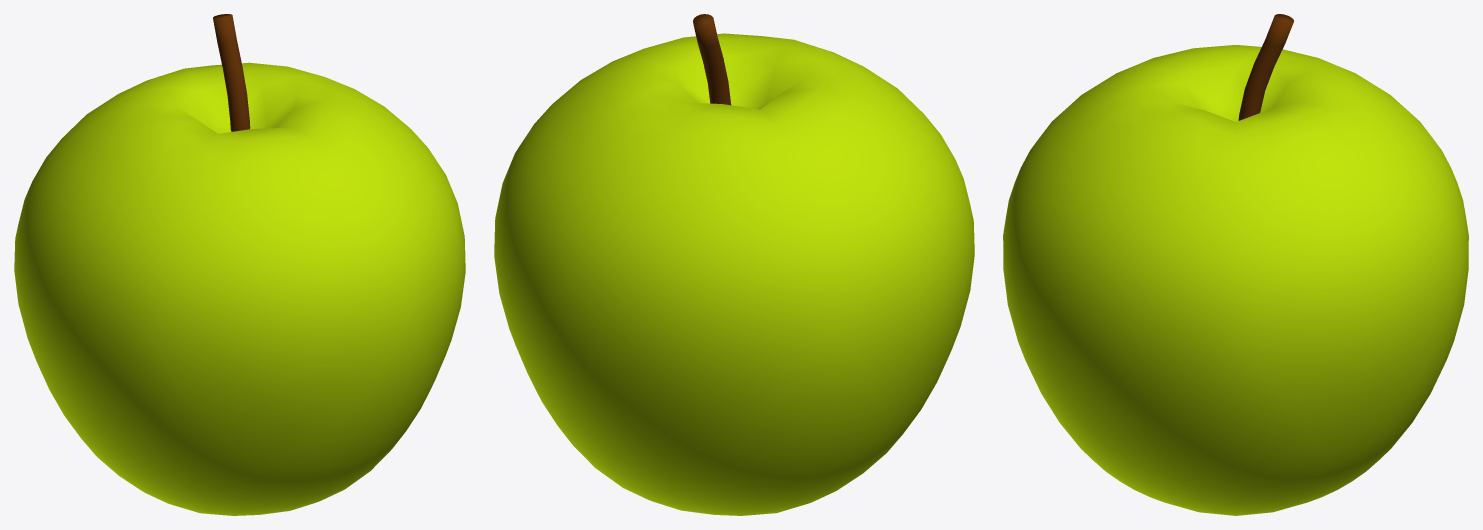
The model's file is granny_smith_apple.fbx.
3 views of the same model, side by side, from view 1: azimuth 30°, elevation 25°; view 2: azimuth 150°, elevation 25°; view 3: azimuth 270°, elevation 25° (orthographic). The views are drawn at different scales.
Parts seen in each view (by area): view 1: Icosphere; view 2: Icosphere; view 3: Icosphere.
Part boxes in pixels (left/top/right/bottom): Icosphere: left=14, top=14, right=465, bottom=515; Icosphere: left=494, top=14, right=974, bottom=515; Icosphere: left=1003, top=14, right=1468, bottom=515.
Size of the model in its own units: 175 by 195 by 174.
